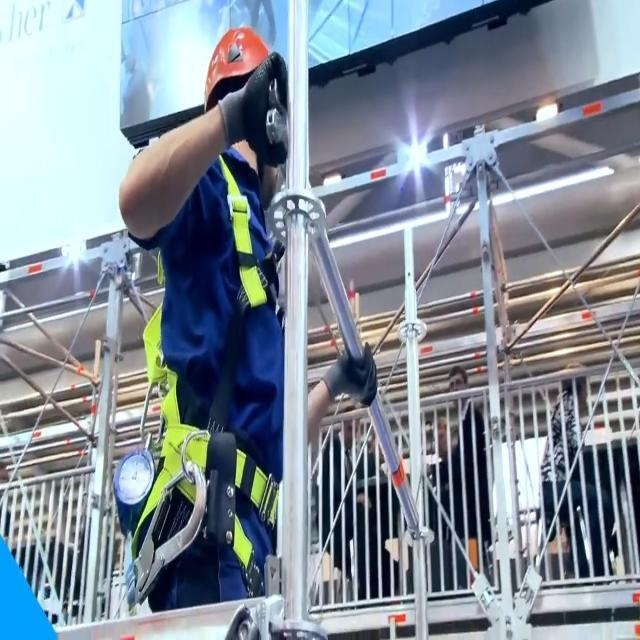Arnes_seguridad: (131, 110, 288, 640)
